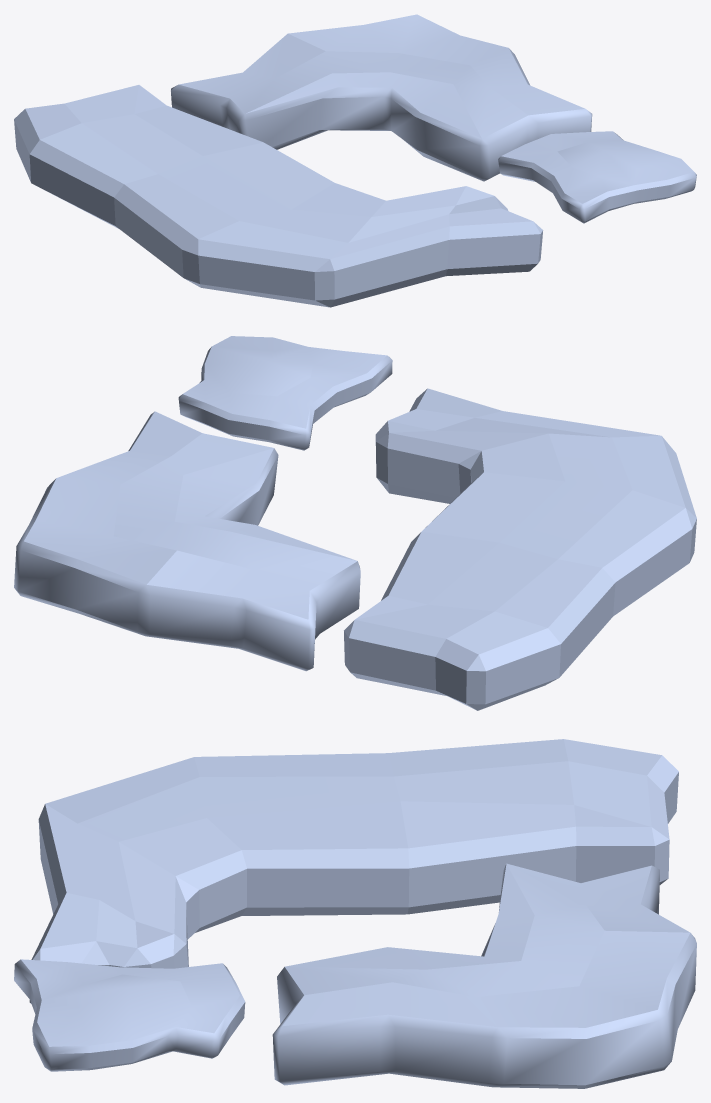
File: floe10.fbx
3 renders of one model, top to bottom at view 1: azimuth 30°, elevation 25°; view 2: azimuth 150°, elevation 25°; view 3: azimuth 270°, elevation 25°, orthographic. The views are drawn at different scales.
Parts seen in each view (by area): view 1: Plane.024, Plane.026, Plane.025; view 2: Plane.024, Plane.026, Plane.025; view 3: Plane.024, Plane.026, Plane.025.
Part boxes in pixels (left/top/right/bottom): Plane.024: left=14, top=85, right=543, bottom=307; Plane.026: left=171, top=14, right=592, bottom=181; Plane.025: left=498, top=131, right=696, bottom=223; Plane.024: left=344, top=388, right=696, bottom=710; Plane.026: left=14, top=411, right=360, bottom=671; Plane.025: left=178, top=336, right=392, bottom=450; Plane.024: left=29, top=739, right=678, bottom=1003; Plane.026: left=272, top=863, right=696, bottom=1088; Plane.025: left=14, top=959, right=245, bottom=1071.
Bounding box in the file's own units: 379 × 54.65 × 351.
